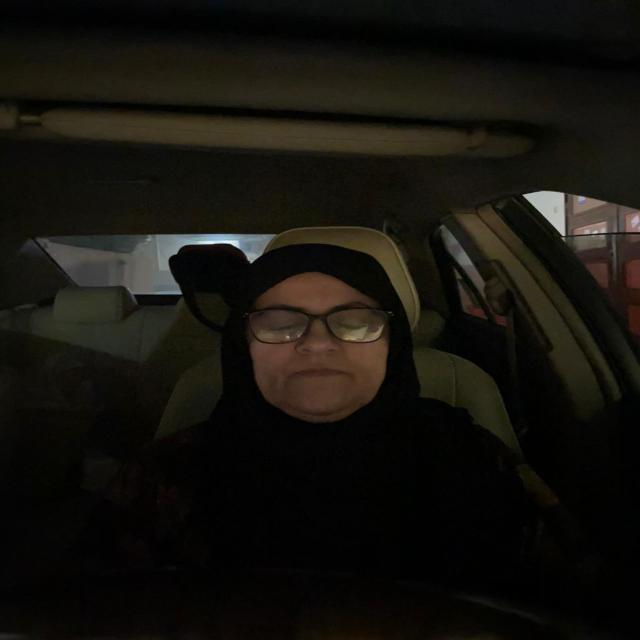drowsy: (226, 242, 418, 429)
